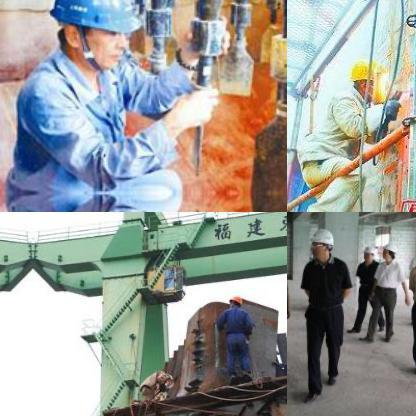Helmet: (44, 0, 143, 71), (349, 54, 373, 98), (307, 224, 335, 258), (378, 238, 396, 262), (360, 238, 376, 263), (226, 294, 240, 310)
